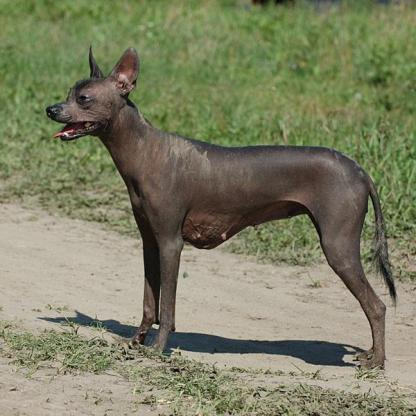Mexican_hairless: (46, 45, 387, 371)
